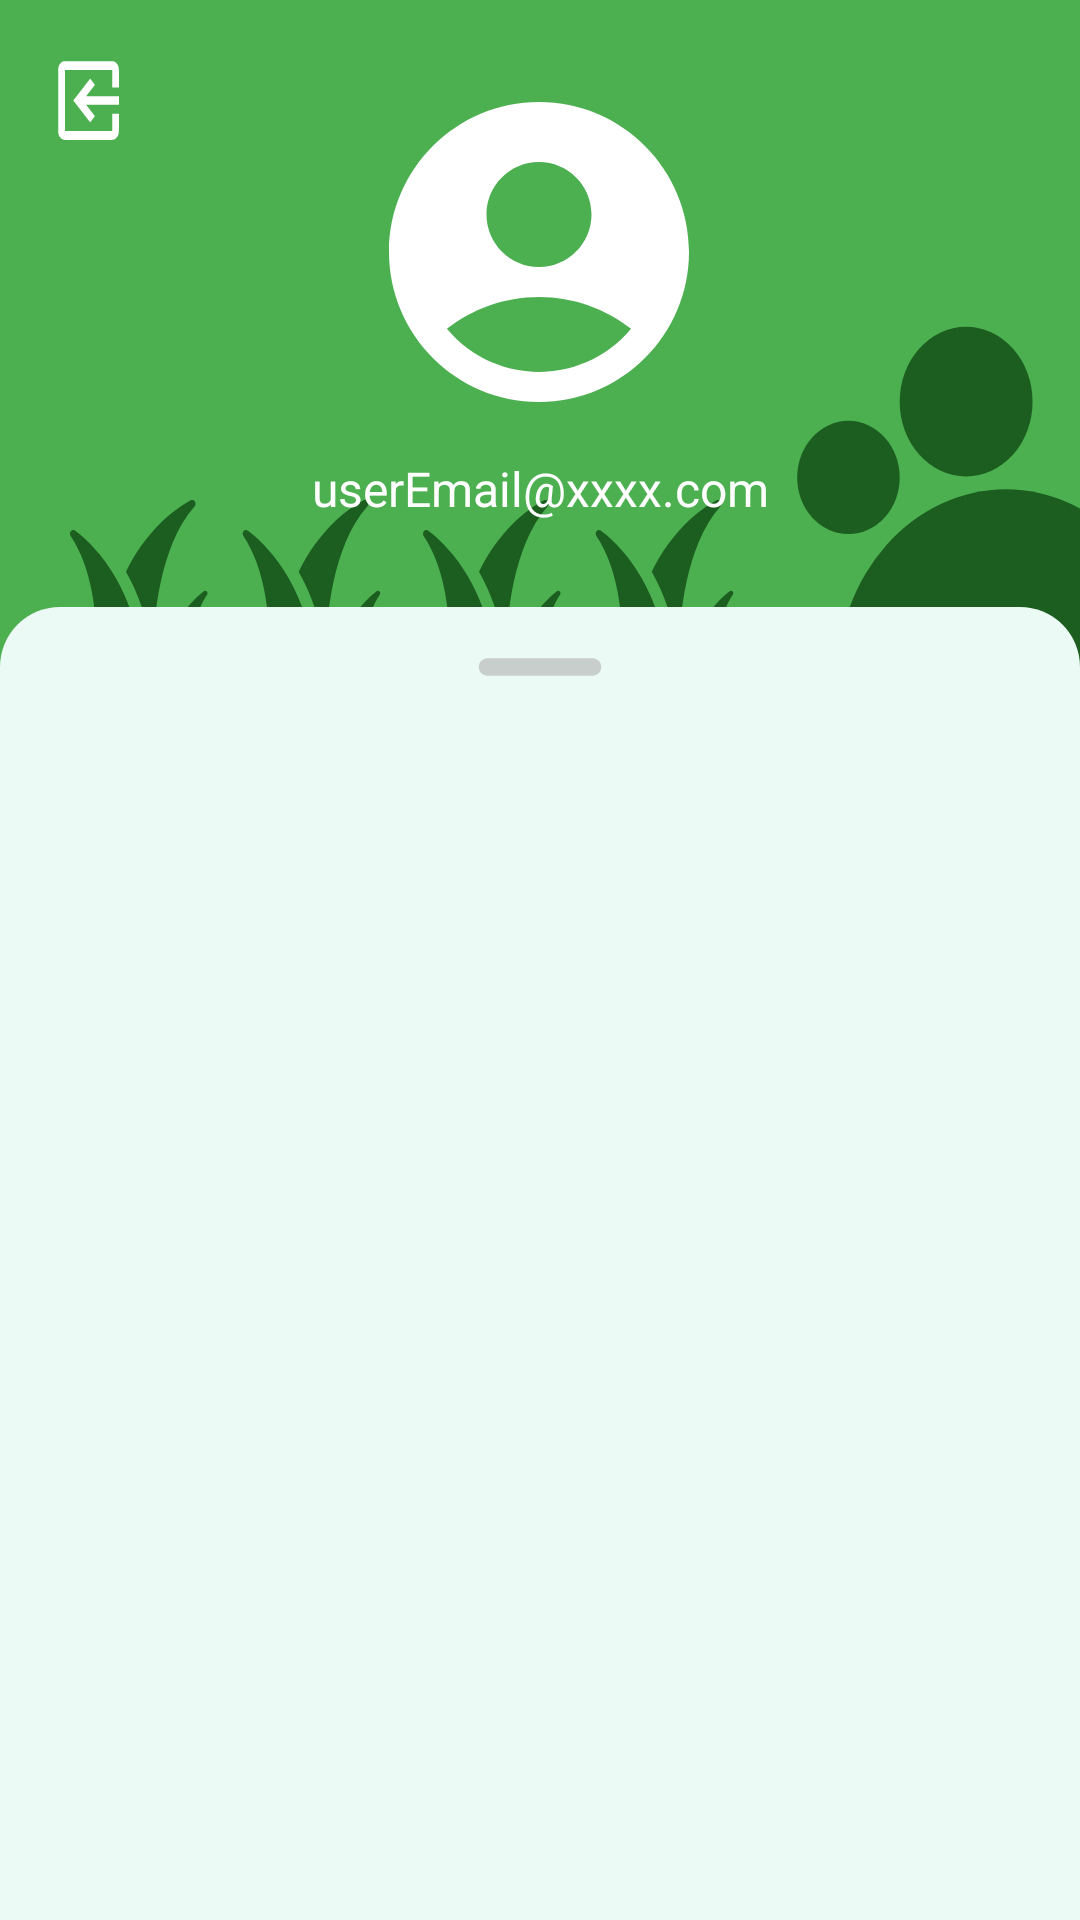

Locate icon controls on the screen. Image size 1080px x 1920px, boxes as (x1, y1, x2, y2).
account circle: (389, 102, 689, 402)
Log out: (58, 61, 119, 140)
